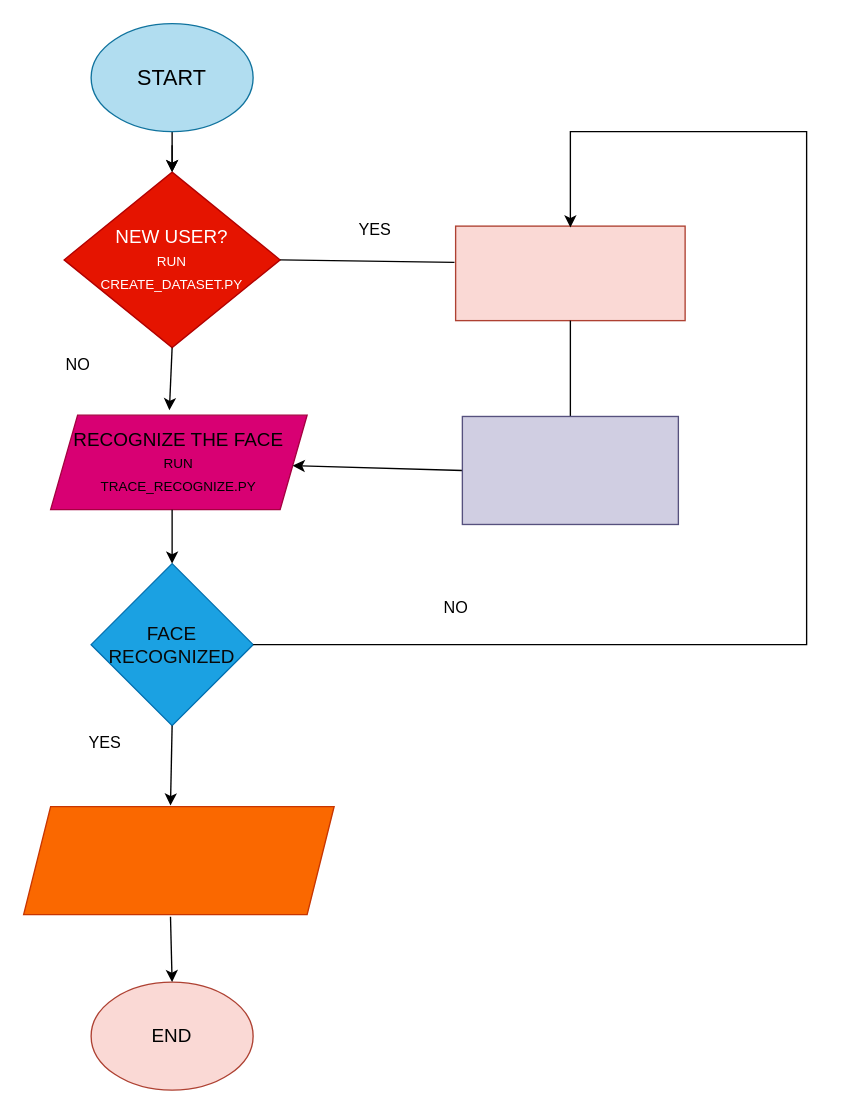
Image size: 841x1114. Some labels were removed from this diagram. Here are the shapes that lost their labels. From the top down, the box of each, then its label:
(454, 225, 685, 321): GIVE YOUR PHOTOGRAPH
(461, 415, 678, 524): STORE THE FACE DATA IN FOLDER ON YOUR NAME
(22, 805, 334, 915): STORED IN CSV FILE WITH REGISTRATION NUMBER &DATE TIME OF ENTRY
